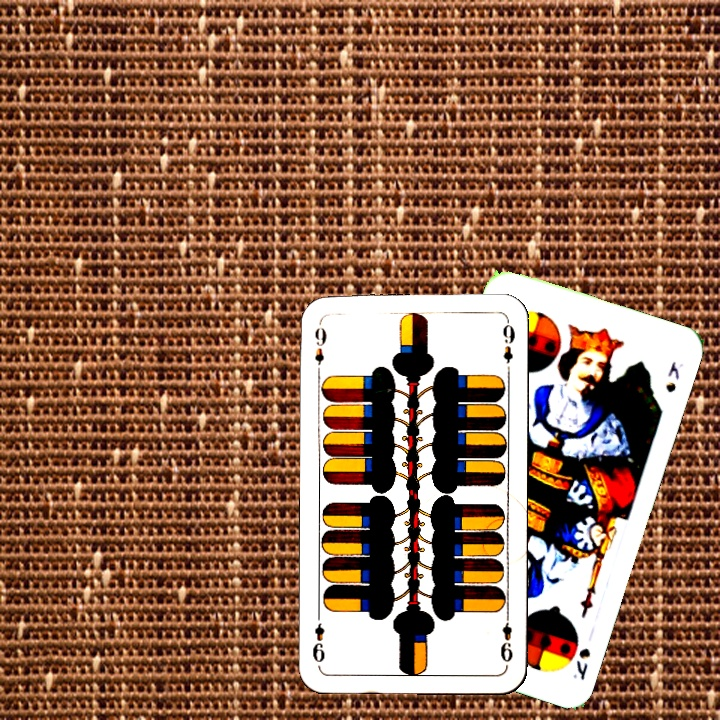E9: (310, 318, 329, 377), (496, 609, 516, 665)
SK: (569, 644, 593, 683)
